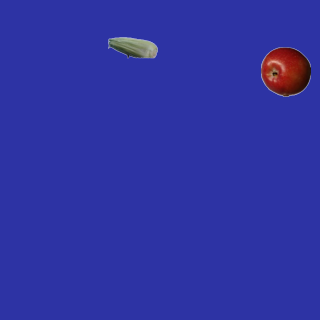Apple Braeburn: (260, 46, 310, 96)
Corn Husk: (107, 22, 157, 72)
